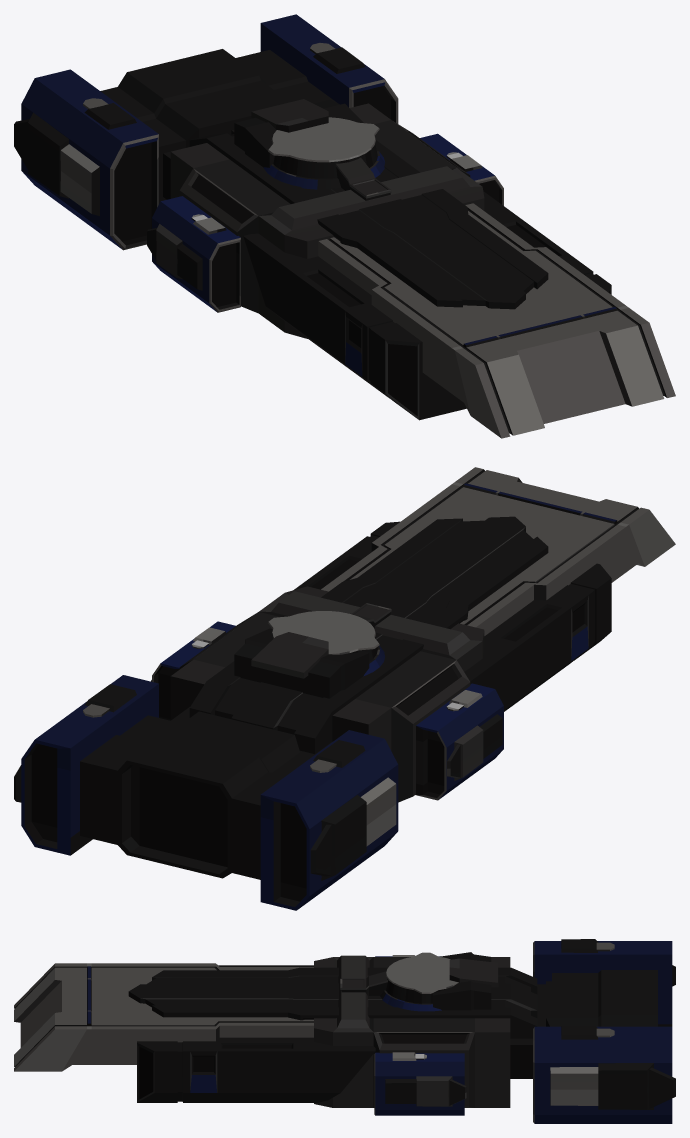
File: imperial.obj
3 views of the same model, one above another, from view 1: azimuth 30°, elevation 25°; view 2: azimuth 150°, elevation 25°; view 3: azimuth 270°, elevation 25° (orthographic). The views are drawn at different scales.
Visible parts, largest first — view 1: Imperial_Cube.028; view 2: Imperial_Cube.028; view 3: Imperial_Cube.028.
Boxes of the visible parts, box(x1,y1,x2,y2) form: Imperial_Cube.028: box(14, 14, 675, 438); Imperial_Cube.028: box(14, 467, 675, 910); Imperial_Cube.028: box(14, 939, 675, 1123).
Bounding box in the file's own units: 7.73 × 3.3 × 18.55.
